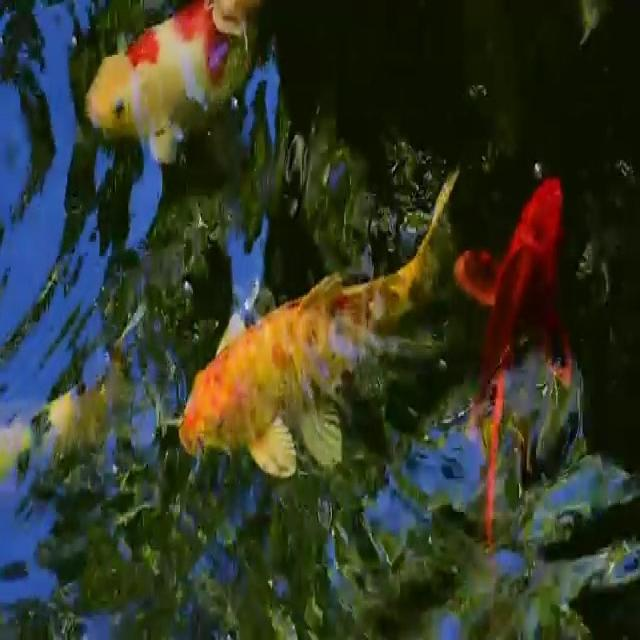fish: (172, 168, 479, 473), (452, 152, 589, 567), (80, 2, 268, 164)
